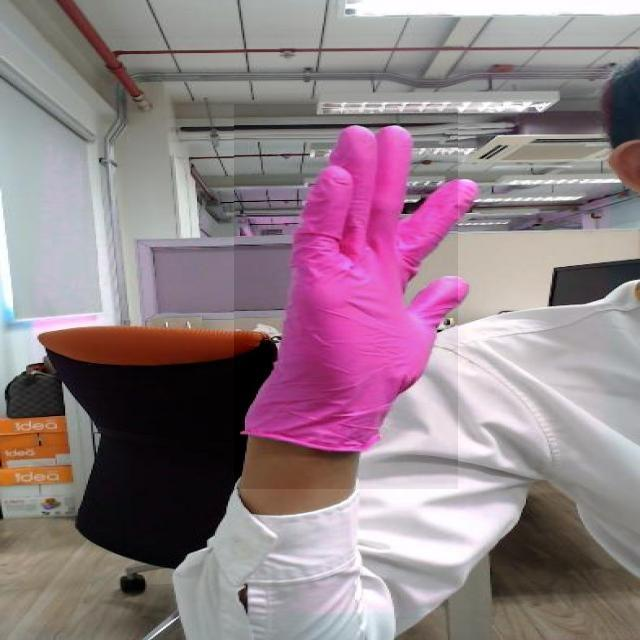apron: (235, 104, 459, 490)
